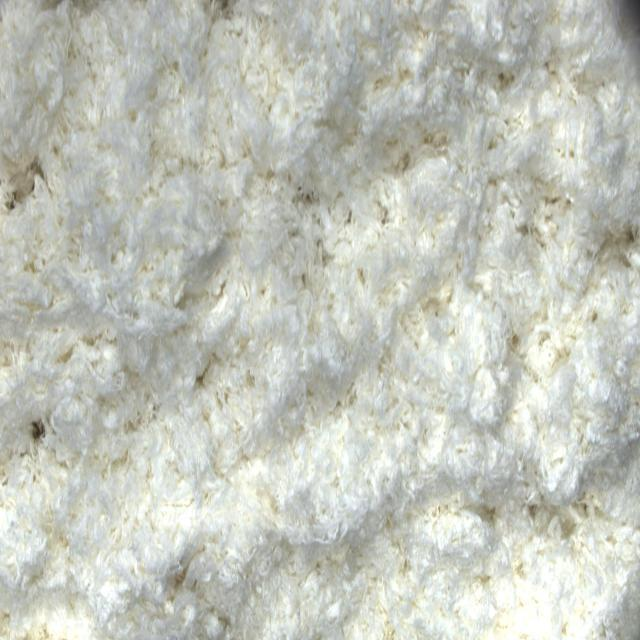dust: (27, 409, 50, 456)
